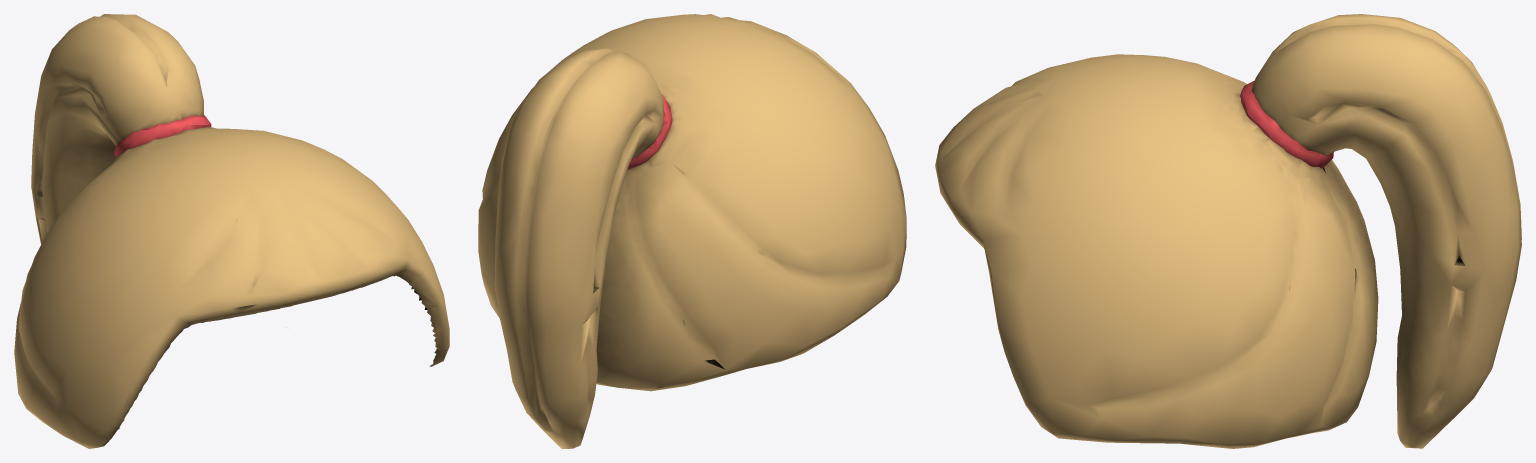
File: hair_ponytail.glb
3 renders of one model, left to right at view 1: azimuth 30°, elevation 25°; view 2: azimuth 150°, elevation 25°; view 3: azimuth 270°, elevation 25°, orthographic. The views are drawn at different scales.
Parts seen in each view (by area): view 1: hair_ponytail, Ponytail; view 2: hair_ponytail, Ponytail; view 3: hair_ponytail, Ponytail.
Part boxes in pixels (x1,y1,x2,y2): hair_ponytail: [14, 115, 449, 448]; Ponytail: [31, 14, 203, 244]; hair_ponytail: [478, 14, 906, 391]; Ponytail: [494, 48, 663, 448]; hair_ponytail: [935, 54, 1378, 448]; Ponytail: [1252, 14, 1521, 448].
Size of the model in its own units: 0.5714 by 0.5469 by 0.6827.
Materials: 2 (2 with a texture image).
